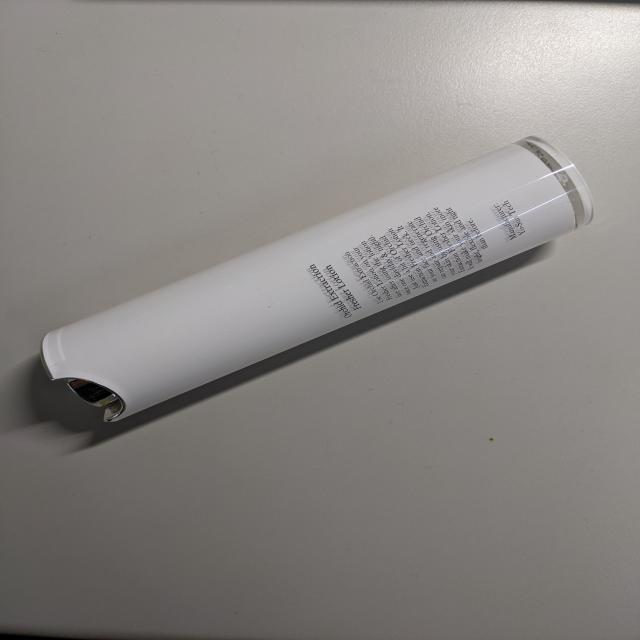Plastic: (47, 132, 596, 434)
